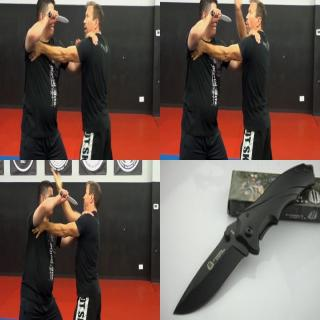knife: (169, 222, 251, 316), (208, 6, 232, 24), (46, 8, 70, 25), (58, 187, 78, 207)
